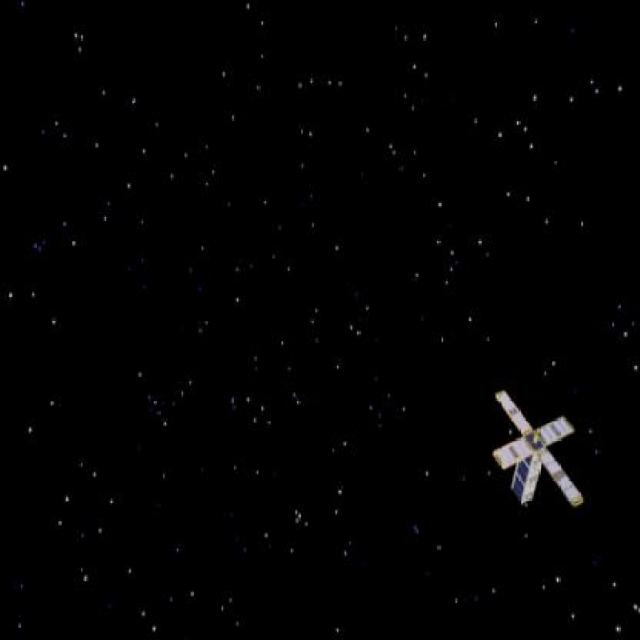satellite: (473, 394, 602, 519)
